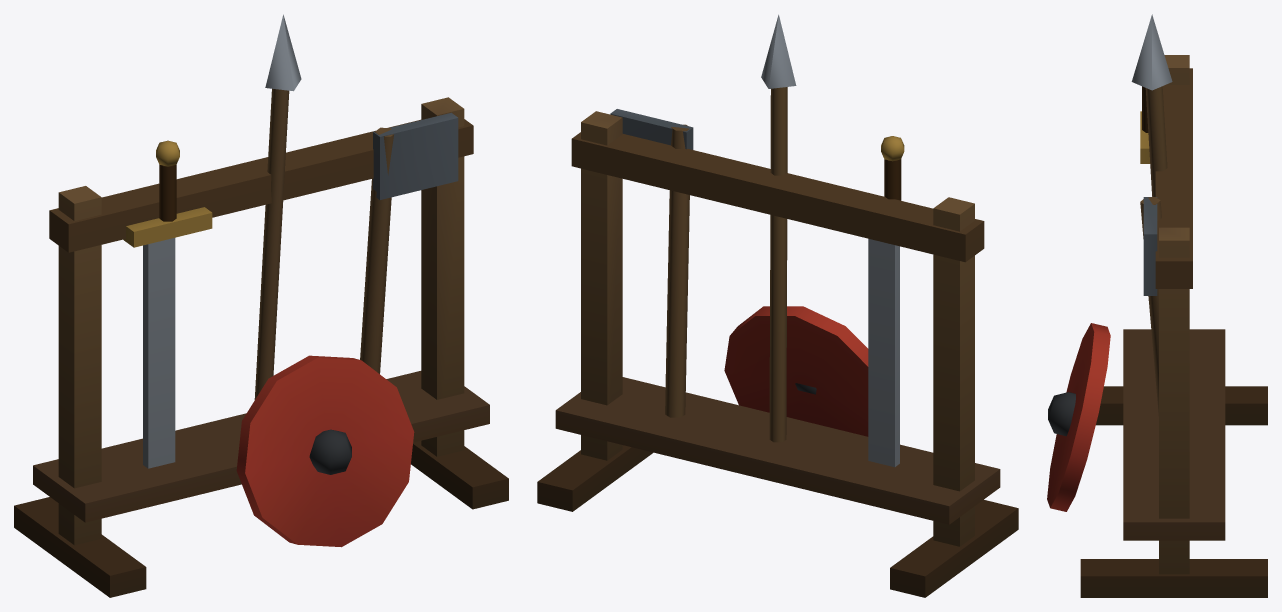
The model's file is weapon-rack.glb.
3 views of the same model, side by side, from view 1: azimuth 30°, elevation 25°; view 2: azimuth 150°, elevation 25°; view 3: azimuth 270°, elevation 25° (orthographic). The views are drawn at different scales.
Parts seen in each view (by area): view 1: weapon_rack_model; view 2: weapon_rack_model; view 3: weapon_rack_model.
Boxes of the visible parts, x1,y1,x2,y2 form: weapon_rack_model: (14,14,508,597); weapon_rack_model: (537,14,1018,597); weapon_rack_model: (1047,14,1267,597).
Size of the model in its own units: 1.34 by 1.6 by 0.6485.
